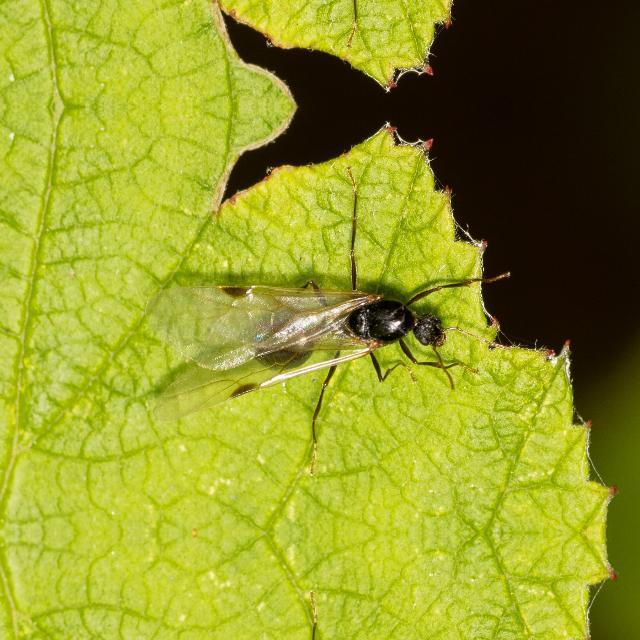Tetramorium: (197, 236, 503, 420)
